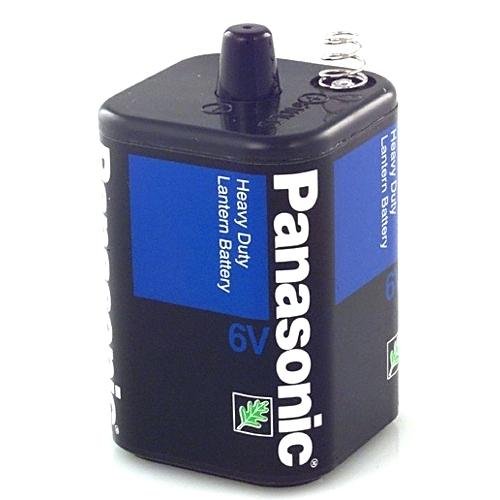6V: (88, 18, 415, 494)
